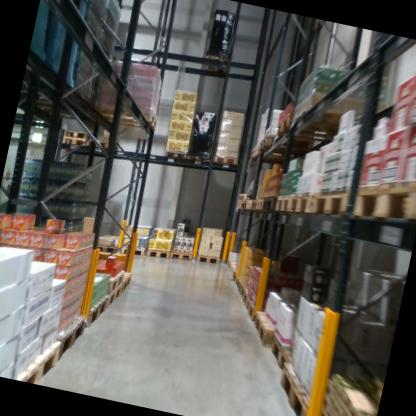pallet: (347, 159, 416, 245), (16, 320, 69, 388), (274, 99, 347, 148), (87, 95, 165, 134), (271, 358, 323, 416), (51, 299, 92, 372), (309, 171, 357, 231), (251, 130, 324, 169), (249, 308, 283, 357), (198, 42, 234, 87), (286, 180, 319, 229), (57, 131, 118, 156), (267, 334, 303, 374), (82, 291, 110, 339), (246, 145, 305, 167), (100, 261, 126, 298), (88, 236, 124, 261), (209, 150, 242, 176), (168, 236, 195, 267), (118, 237, 148, 261), (242, 289, 263, 322), (193, 248, 225, 269), (159, 143, 190, 164), (259, 184, 279, 215), (103, 284, 122, 316), (188, 149, 213, 170), (57, 124, 89, 140), (118, 268, 134, 295), (272, 193, 291, 215), (144, 246, 167, 263), (236, 287, 252, 307), (236, 190, 250, 212), (229, 266, 240, 284), (243, 194, 253, 212), (224, 255, 237, 268), (255, 194, 263, 212), (234, 276, 244, 290), (250, 197, 257, 216), (227, 262, 238, 273)
